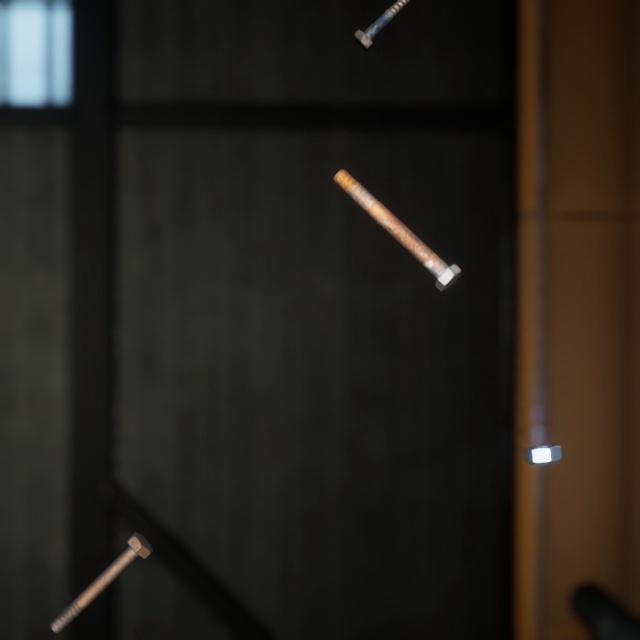bolt: (328, 150, 465, 281), (45, 505, 157, 615), (349, 0, 408, 48)
nut: (520, 419, 566, 447)
